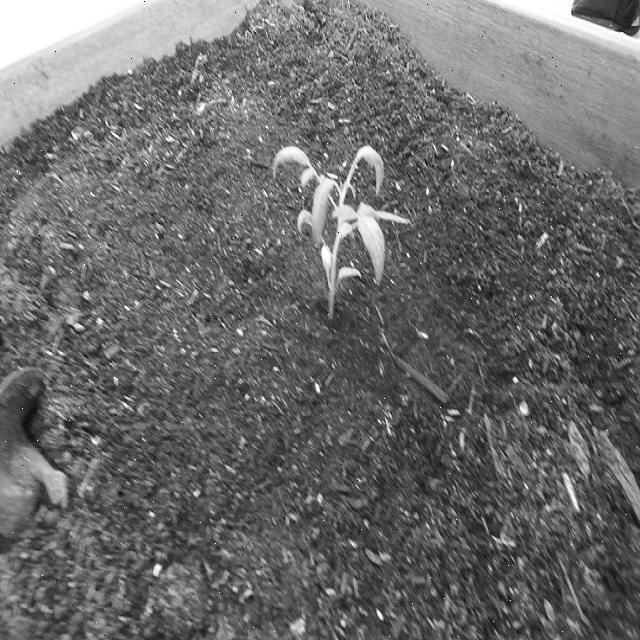Healthy: (268, 132, 417, 328)
